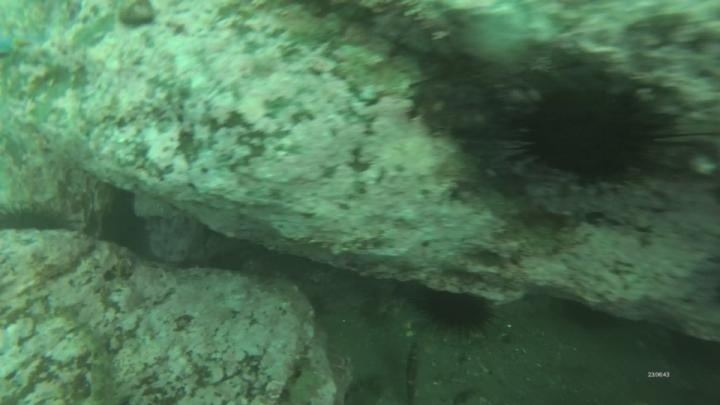echinus: (503, 77, 674, 190), (416, 285, 498, 340)
holothurian: (80, 330, 125, 405)
